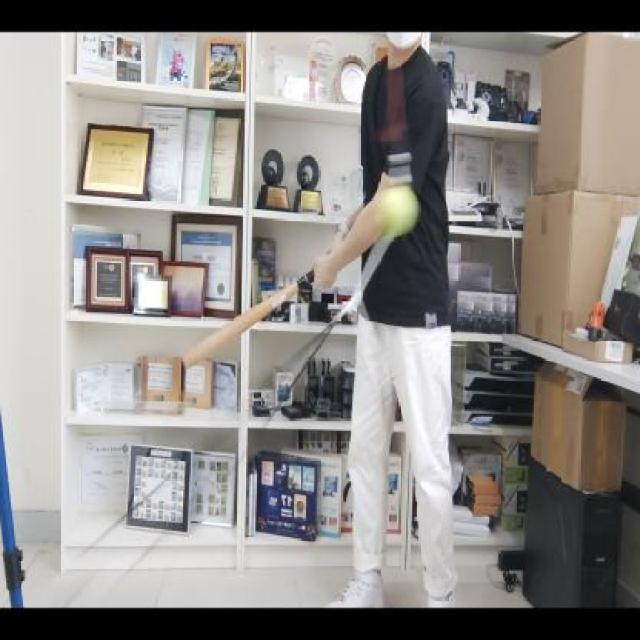baseball: (382, 183, 421, 237)
